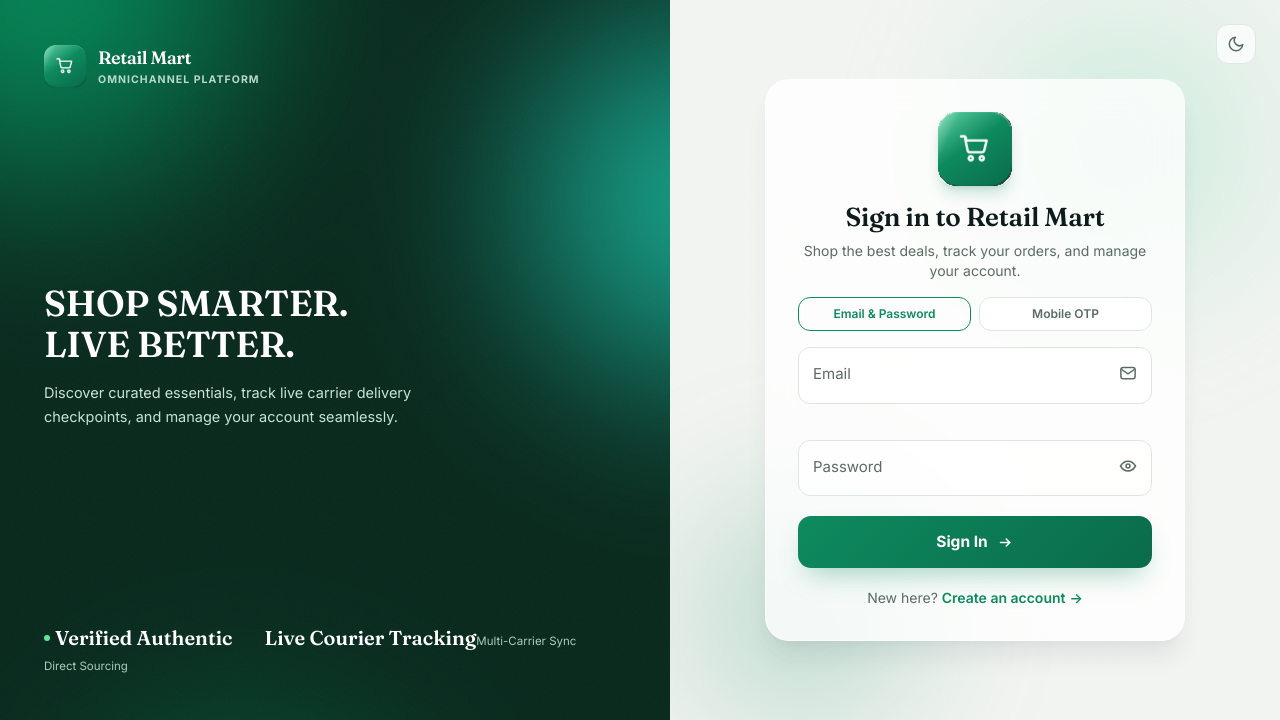
Application Routing & Entry Point Tests › 4. Clicking 'Create an account' from Customer Login navigates to /shop/signup
What coordinates should you click on to do the following:
click the link "Create an account →"
I would click on:
 (1013, 598)
Its box is [942,588,1083,608].
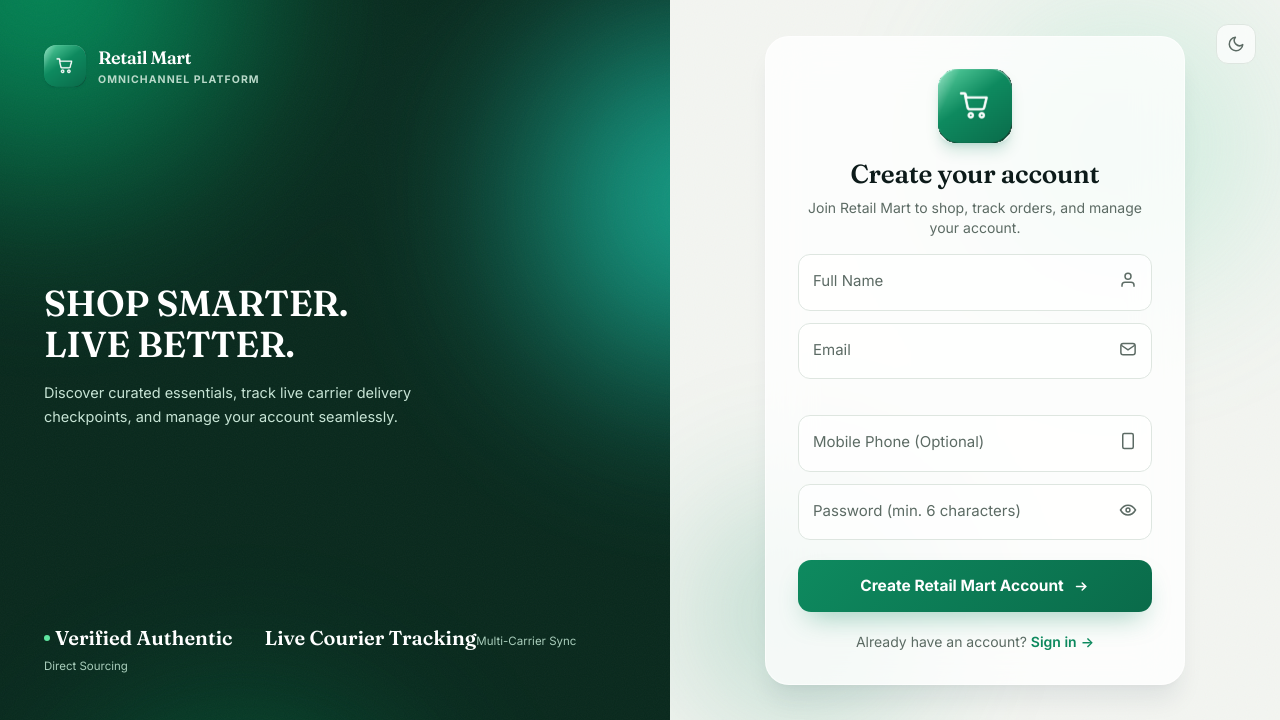
Now the heading "Create your account" is shown, box [851,158,1100,190]
